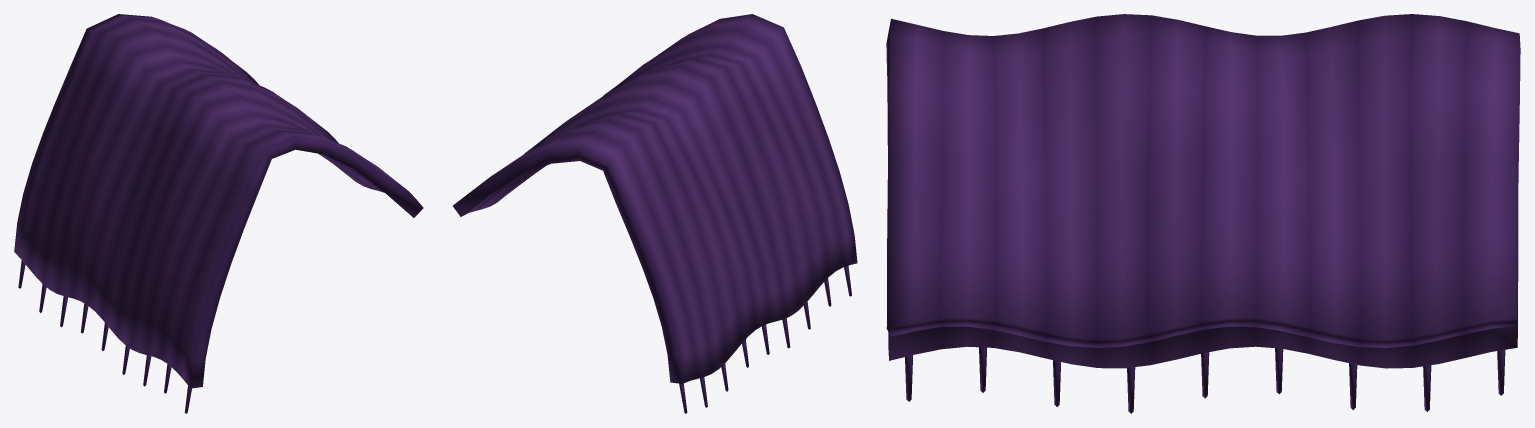
File: throw.glb
3 views of the same model, side by side, from view 1: azimuth 30°, elevation 25°; view 2: azimuth 150°, elevation 25°; view 3: azimuth 270°, elevation 25° (orthographic). The views are drawn at different scales.
Parts seen in each view (by area): view 1: throw; view 2: throw; view 3: throw.
Part boxes in pixels (box(x1,y1,x2,y2)): throw: box(14, 14, 423, 413); throw: box(453, 14, 857, 413); throw: box(886, 14, 1520, 413).
Bounding box in the file's own units: 0.4714 × 0.5107 × 0.6253.
